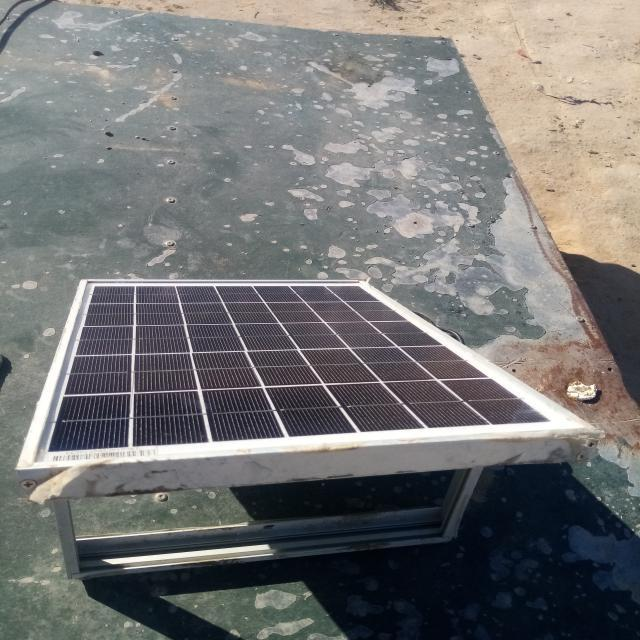no faulty: (17, 280, 599, 472)
